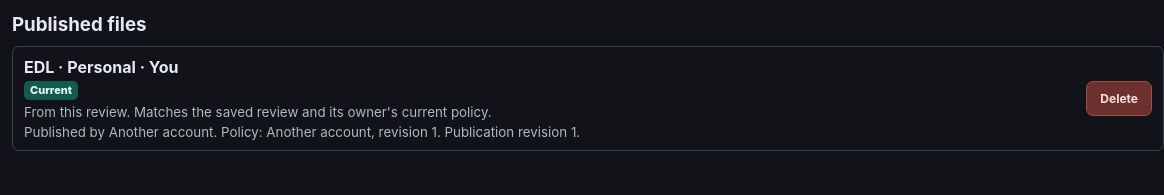
deletes with the listed revision and explains a stale file instead of deleting it
Later steps or results of the test are not shown.
Click the button with aria-label "Delete EDL · Personal · You" at (1119, 98), box [1086,81,1152,116]
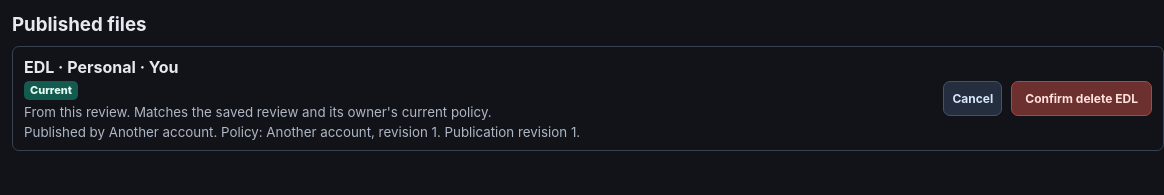
Click the button "Confirm delete EDL" at (1082, 98), box [1011,81,1152,116]
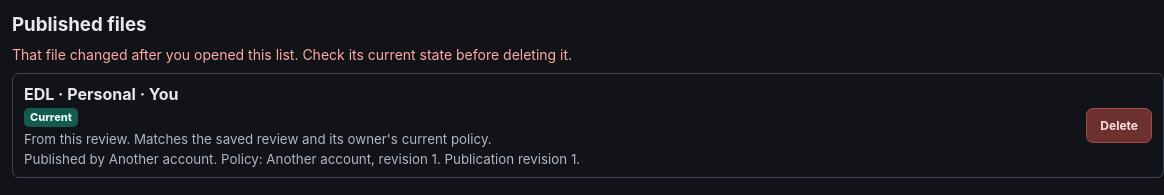
Check: the message shows "That file changed after you opened this list.", box [12,46,572,63]
